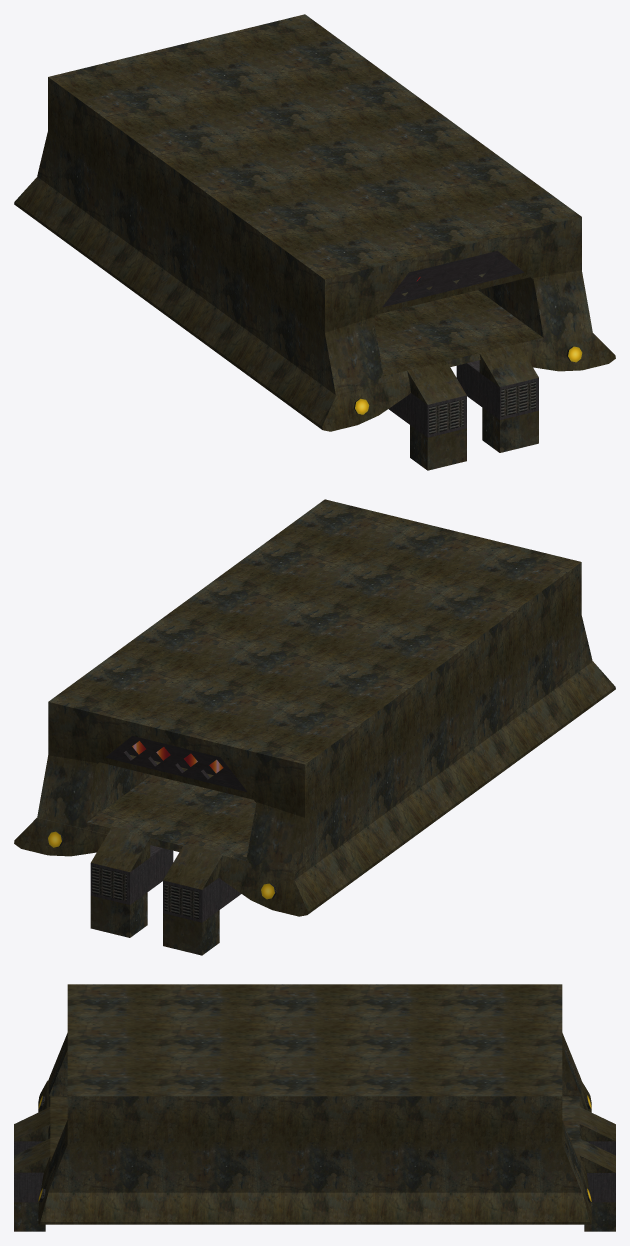
Rendered from core_tunnel.fbx.
3 renders of one model, top to bottom at view 1: azimuth 30°, elevation 25°; view 2: azimuth 150°, elevation 25°; view 3: azimuth 270°, elevation 25°, orthographic. The views are drawn at different scales.
Parts seen in each view (by area): view 1: Object; view 2: Object; view 3: Object.
Part boxes in pixels (left/top/right/bottom): Object: left=14, top=14, right=615, bottom=470; Object: left=14, top=499, right=615, bottom=955; Object: left=14, top=984, right=615, bottom=1231.
Size of the model in its own units: 5134 by 3125 by 10212.
